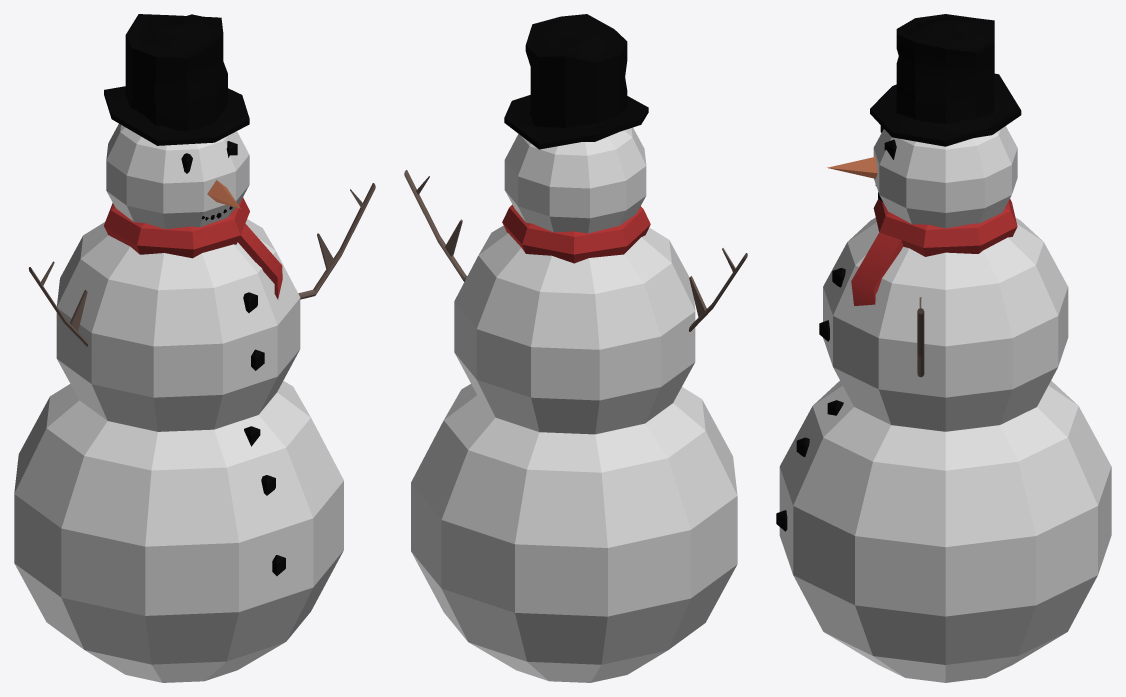
File: snow_man.fbx
The picture shows the model from 3 angles, left to right: view 1: azimuth 30°, elevation 25°; view 2: azimuth 150°, elevation 25°; view 3: azimuth 270°, elevation 25°; orthographic projection.
Parts seen in each view (by area): view 1: pSphere21, pTorus1; view 2: pSphere21, pTorus1; view 3: pSphere21, pTorus1.
Boxes of the visible parts, x1,y1,x2,y2 form: pSphere21: (14,14,375,682); pTorus1: (104,197,282,299); pSphere21: (404,14,747,682); pTorus1: (502,204,650,263); pSphere21: (776,14,1111,682); pTorus1: (851,199,1017,305).
Bounding box in the file's own units: 2.31 × 4.11 × 1.95.
